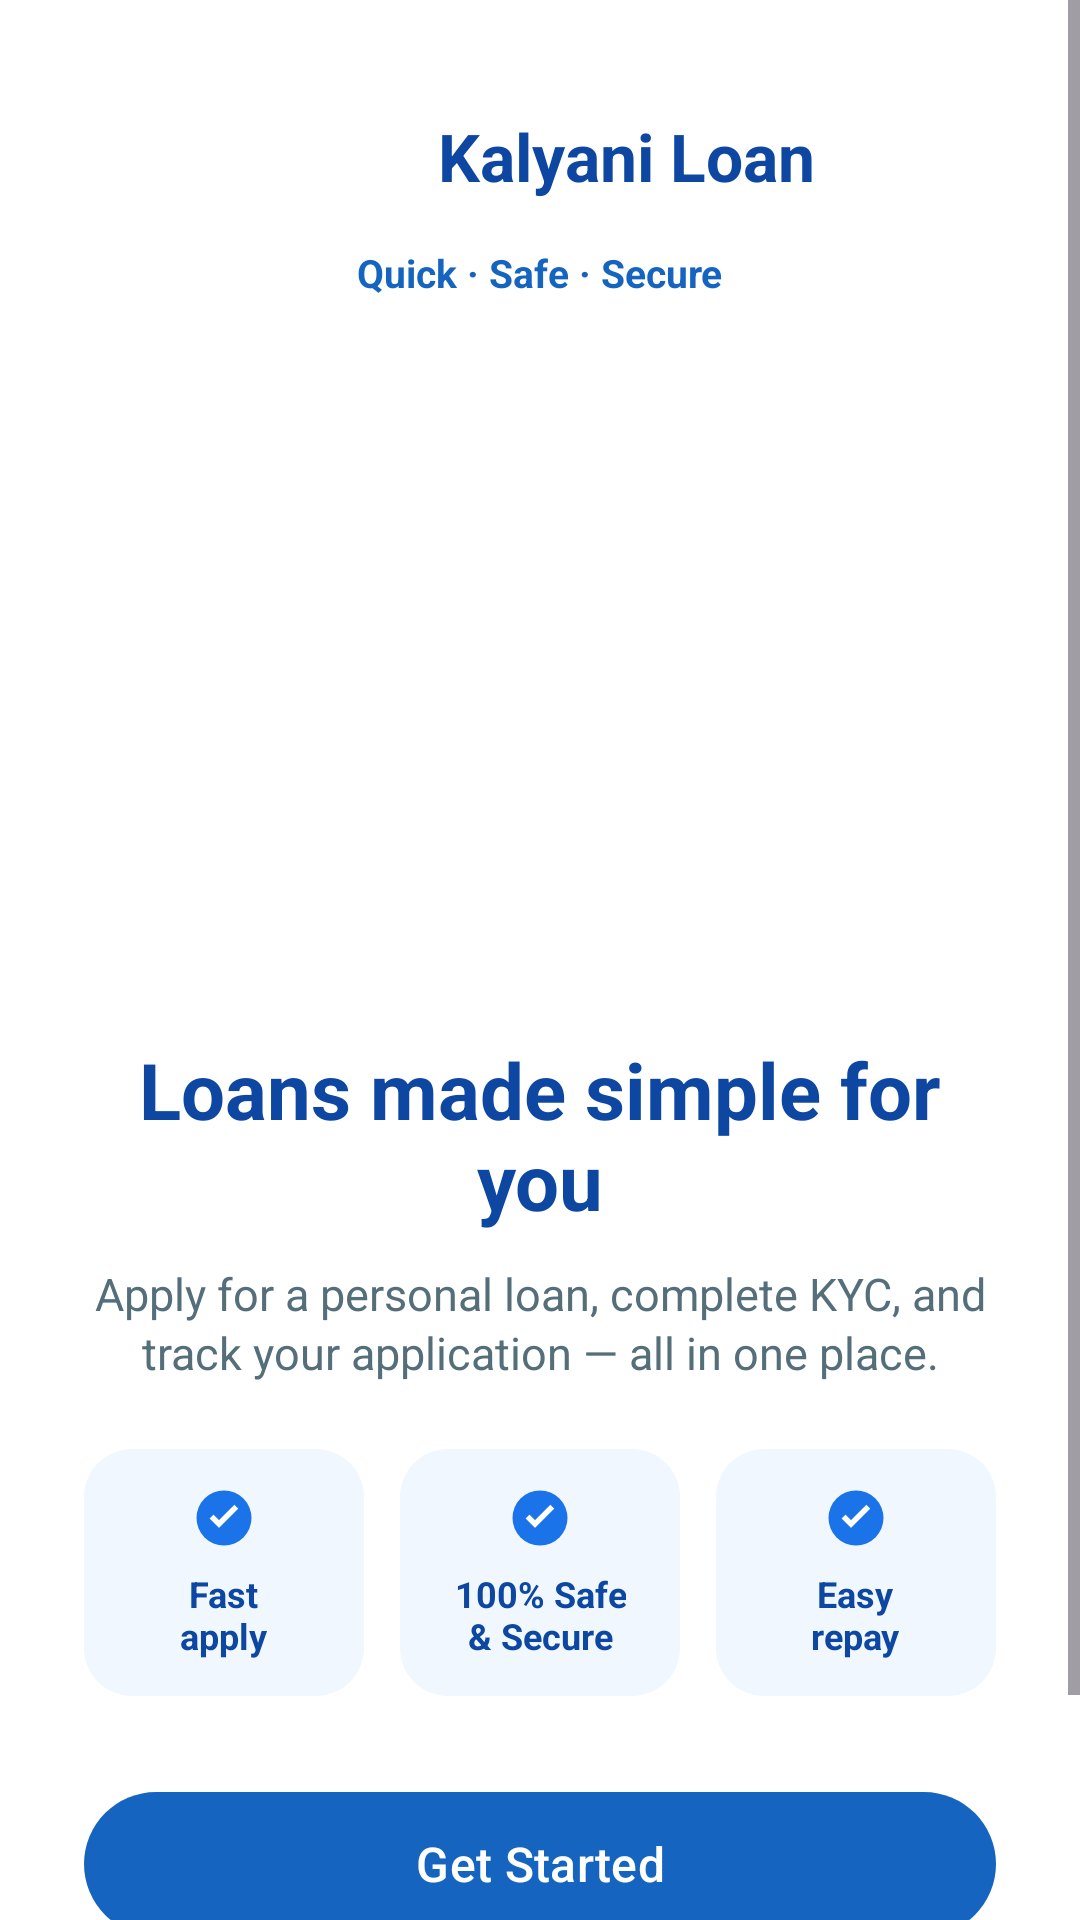

Icons on this 1080*1920 Android screen, each with its box as (x1, y1, x2, y2):
welcome check: (196, 1490, 252, 1546), (512, 1490, 568, 1546), (828, 1490, 884, 1546)
